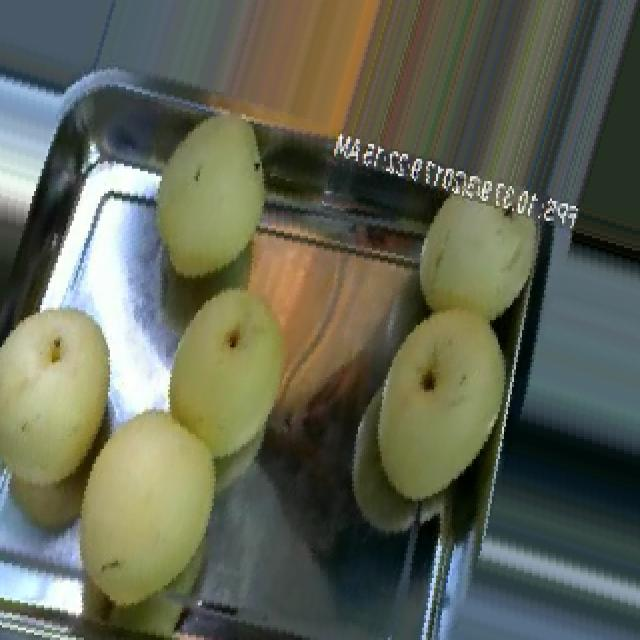Fruit: (50, 390, 246, 630), (344, 283, 520, 531), (184, 0, 418, 169), (126, 89, 298, 300), (0, 281, 140, 508)
